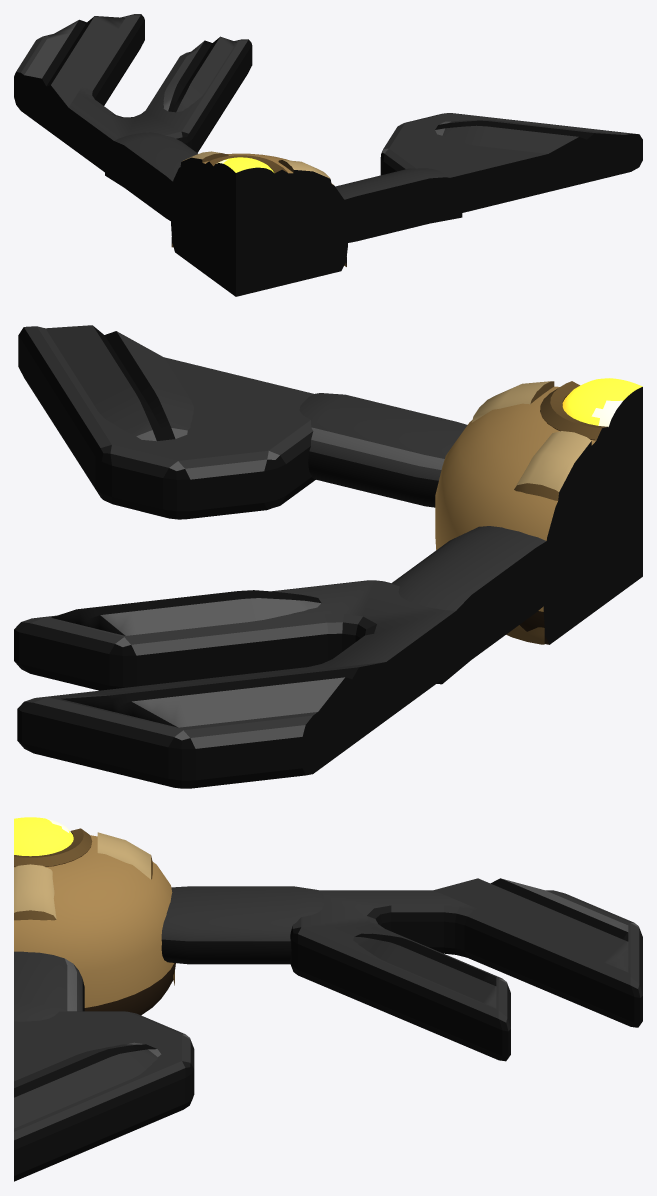
The model's file is spin_claw_91.glb.
3 views of the same model, one above another, from view 1: azimuth 30°, elevation 25°; view 2: azimuth 150°, elevation 25°; view 3: azimuth 270°, elevation 25° (orthographic). The views are drawn at different scales.
Visible parts, largest first — view 1: spin_claw_91_hub_dome, spin_claw_91_arm1_plate, spin_claw_91_arm0_plate, spin_claw_91_arm1_rod, spin_claw_91_arm0_rod, spin_claw_91_arm0_ridge0, spin_claw_91_arm1_ridge0, spin_claw_91_arm0_ridge1, spin_claw_91_hub_lens, spin_claw_91_hub_bezel, spin_claw_91_hub_rib1, spin_claw_91_hub_rib0; view 2: spin_claw_91_arm0_plate, spin_claw_91_arm1_plate, spin_claw_91_hub_dome, spin_claw_91_arm0_rod, spin_claw_91_arm1_rod, spin_claw_91_arm0_ridge0, spin_claw_91_arm1_ridge0, spin_claw_91_arm0_ridge1, spin_claw_91_hub_rib0, spin_claw_91_hub_lens, spin_claw_91_hub_bezel, spin_claw_91_hub_rib1; view 3: spin_claw_91_arm0_plate, spin_claw_91_hub_dome, spin_claw_91_arm1_plate, spin_claw_91_arm0_rod, spin_claw_91_arm0_ridge0, spin_claw_91_arm1_ridge0, spin_claw_91_arm1_rod, spin_claw_91_arm0_ridge1, spin_claw_91_hub_rib1, spin_claw_91_hub_lens, spin_claw_91_hub_rib0, spin_claw_91_hub_bezel.
Part boxes in pixels (bbox=[...]): spin_claw_91_hub_dome: bbox=[171, 153, 347, 296]; spin_claw_91_arm1_plate: bbox=[380, 113, 642, 219]; spin_claw_91_arm0_plate: bbox=[14, 14, 252, 184]; spin_claw_91_arm1_rod: bbox=[309, 168, 462, 249]; spin_claw_91_arm0_rod: bbox=[105, 132, 197, 234]; spin_claw_91_arm0_ridge0: bbox=[20, 16, 125, 115]; spin_claw_91_arm1_ridge0: bbox=[435, 120, 632, 162]; spin_claw_91_arm0_ridge1: bbox=[163, 36, 236, 112]; spin_claw_91_hub_lens: bbox=[212, 157, 275, 195]; spin_claw_91_hub_bezel: bbox=[205, 155, 287, 193]; spin_claw_91_hub_rib1: bbox=[278, 160, 346, 266]; spin_claw_91_hub_rib0: bbox=[171, 151, 228, 247]; spin_claw_91_arm0_plate: bbox=[14, 580, 470, 788]; spin_claw_91_arm1_plate: bbox=[18, 326, 315, 519]; spin_claw_91_hub_dome: bbox=[435, 386, 642, 644]; spin_claw_91_arm0_rod: bbox=[392, 526, 577, 684]; spin_claw_91_arm1_rod: bbox=[299, 393, 467, 507]; spin_claw_91_arm0_ridge0: bbox=[61, 661, 392, 727]; spin_claw_91_arm1_ridge0: bbox=[45, 325, 193, 441]; spin_claw_91_arm0_ridge1: bbox=[51, 590, 321, 635]; spin_claw_91_hub_rib0: bbox=[506, 431, 591, 644]; spin_claw_91_hub_lens: bbox=[562, 378, 642, 446]; spin_claw_91_hub_bezel: bbox=[540, 381, 642, 451]; spin_claw_91_hub_rib1: bbox=[471, 381, 554, 422]; spin_claw_91_arm0_plate: bbox=[289, 890, 642, 1061]; spin_claw_91_hub_dome: bbox=[14, 835, 175, 1015]; spin_claw_91_arm1_plate: bbox=[14, 1011, 194, 1181]; spin_claw_91_arm0_rod: bbox=[161, 886, 324, 964]; spin_claw_91_arm0_ridge0: bbox=[434, 878, 628, 972]; spin_claw_91_arm1_ridge0: bbox=[14, 1042, 161, 1128]; spin_claw_91_arm1_rod: bbox=[14, 951, 84, 1021]; spin_claw_91_arm0_ridge1: bbox=[353, 933, 496, 1008]; spin_claw_91_hub_rib1: bbox=[14, 864, 56, 920]; spin_claw_91_hub_lens: bbox=[14, 817, 73, 856]; spin_claw_91_hub_rib0: bbox=[97, 832, 174, 985]; spin_claw_91_hub_bezel: bbox=[14, 828, 92, 866].
Bounding box in the file's own units: 17.86 × 5.29 × 19.06.
